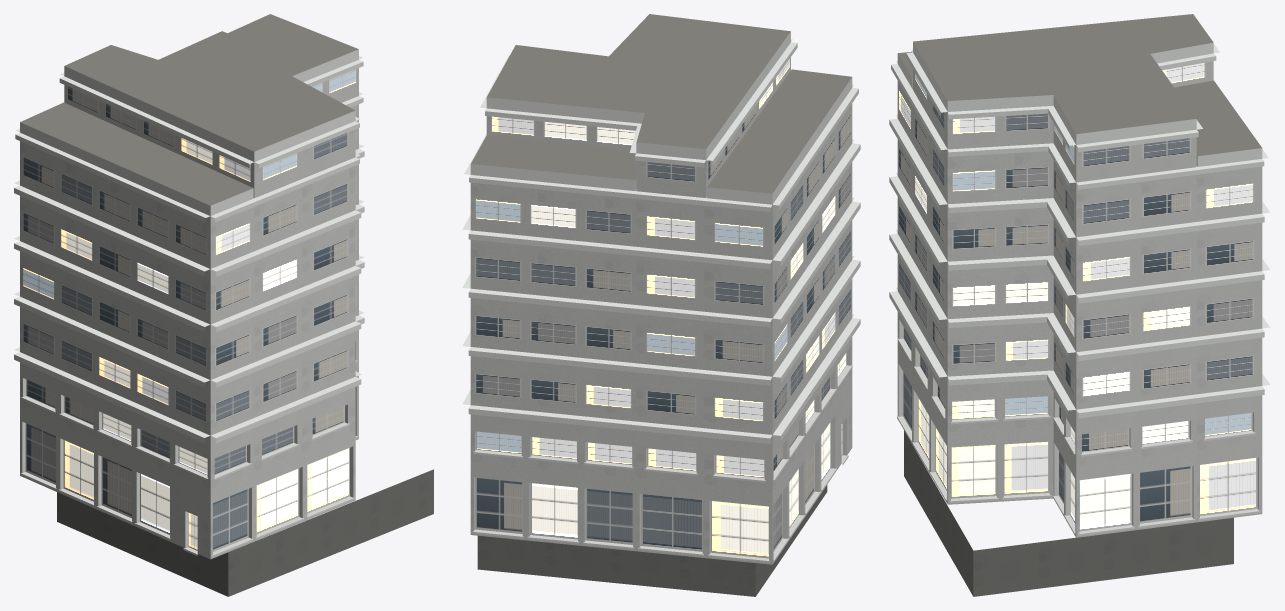
Rendered from z3a_stf_glass.glb.
The picture shows the model from 3 angles, left to right: view 1: azimuth 30°, elevation 25°; view 2: azimuth 150°, elevation 25°; view 3: azimuth 270°, elevation 25°; orthographic projection. The views are drawn at different scales.
Parts seen in each view (by area): view 1: z3a_stf_glass; view 2: z3a_stf_glass; view 3: z3a_stf_glass.
Boxes of the visible parts, bbox=[...] form: z3a_stf_glass: bbox=[14, 14, 433, 596]; z3a_stf_glass: bbox=[462, 14, 860, 596]; z3a_stf_glass: bbox=[889, 14, 1270, 596].
Size of the model in its own units: 22.74 by 29.14 by 22.36.
3 materials, 3 textured.
